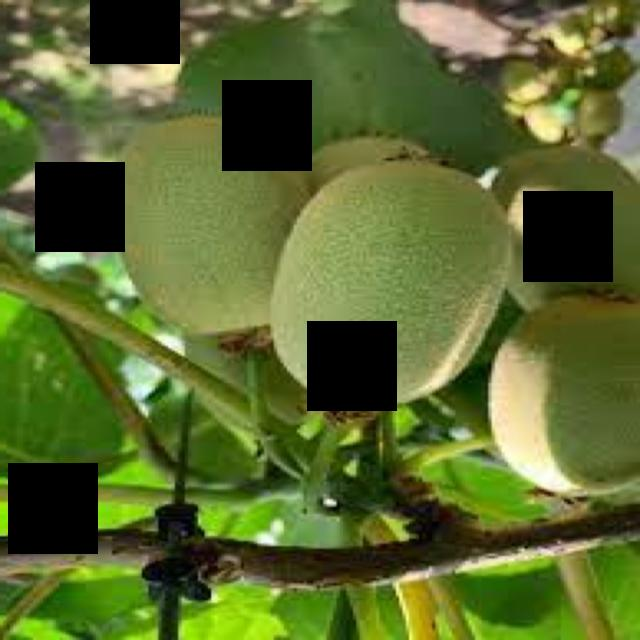kiwi: (262, 157, 526, 414), (100, 102, 324, 342), (476, 288, 640, 508), (483, 140, 640, 330), (292, 125, 440, 201)
